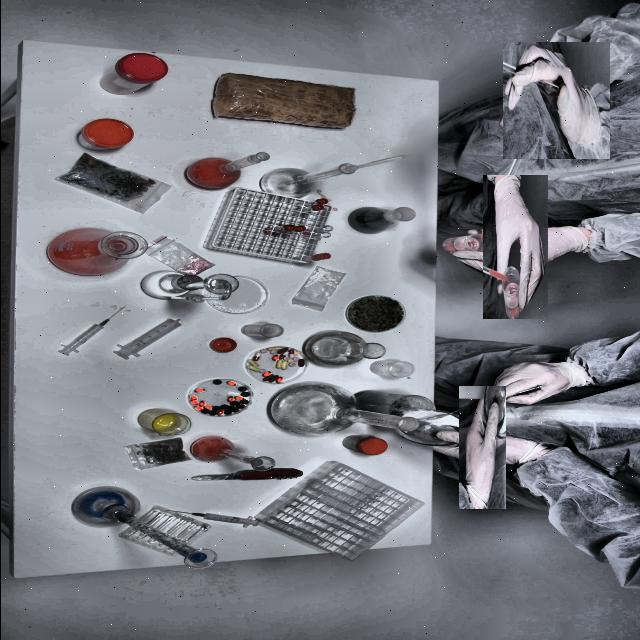gloved: (499, 44, 611, 157), (462, 194, 567, 300), (465, 352, 604, 410), (438, 404, 524, 490)
